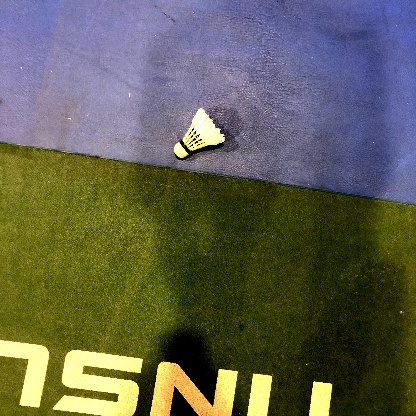ball_single: (174, 108, 225, 158)
